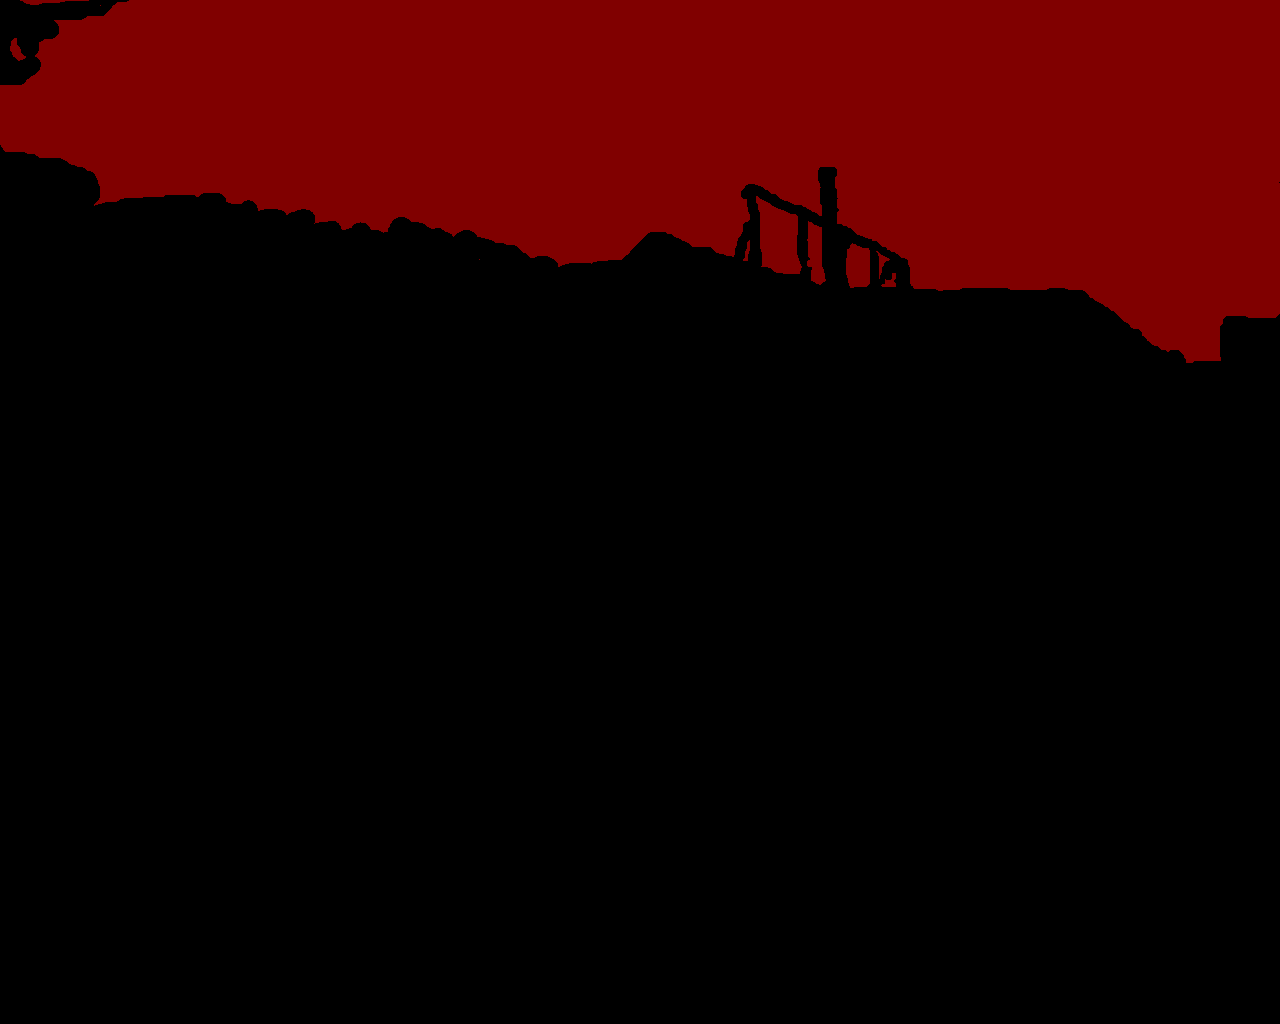Sky: (1, 1, 1279, 363)
